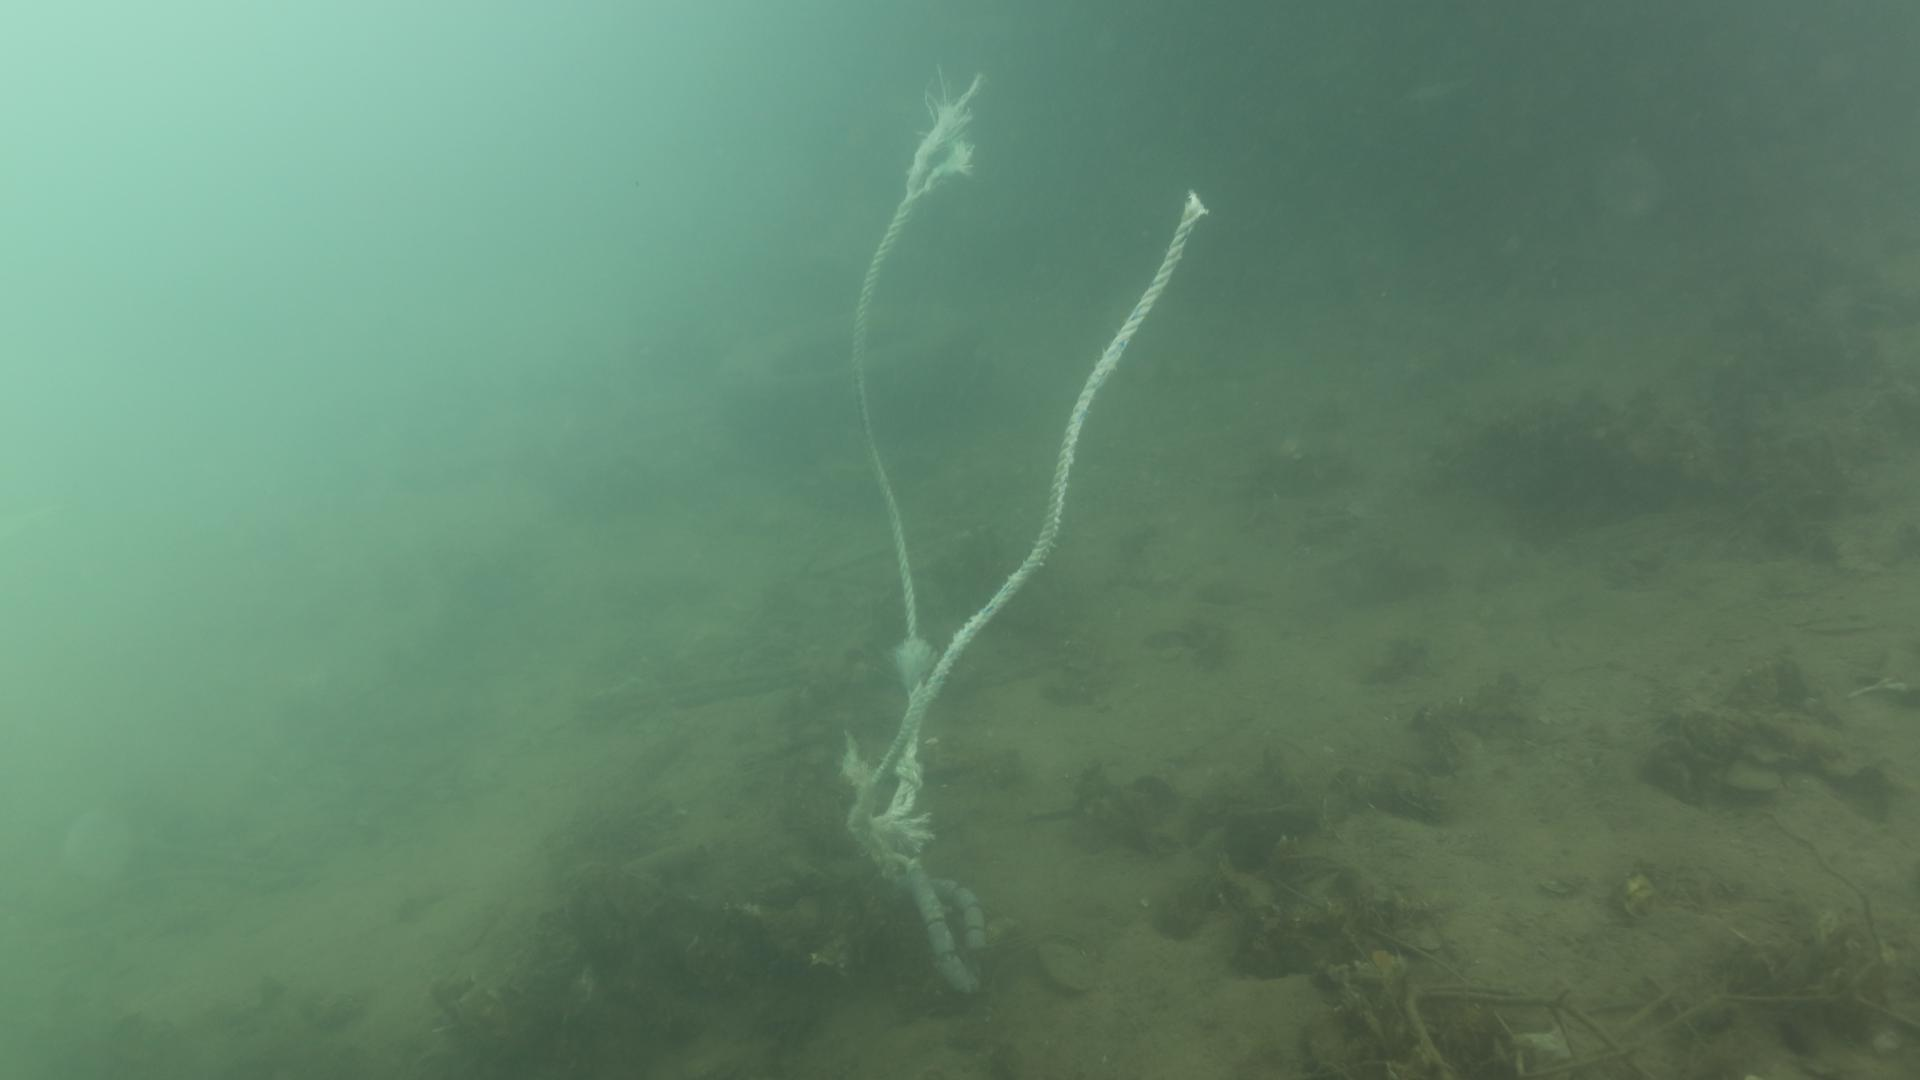bundle of ropes: (847, 187, 1207, 823)
